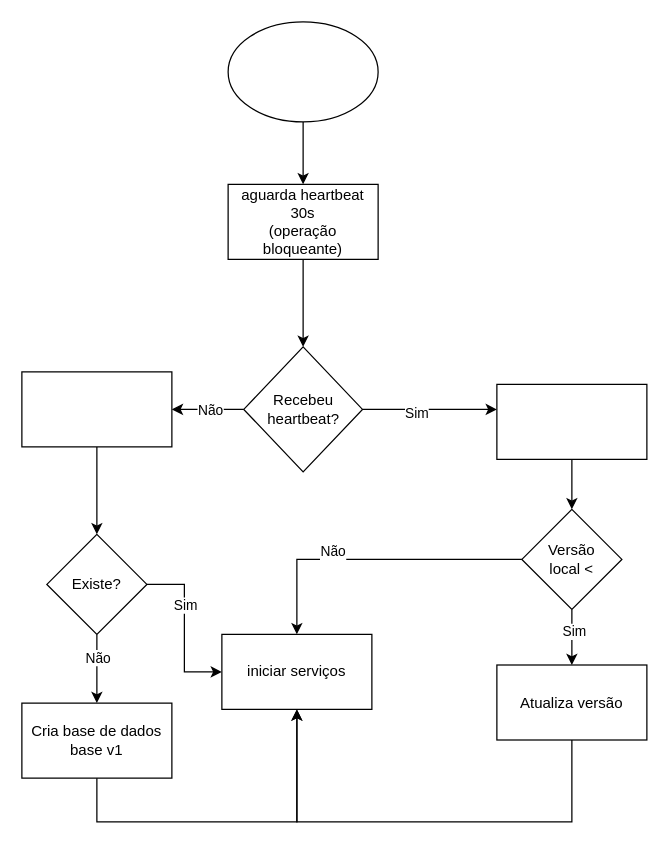
Some shapes in this 669 by 854 pixel diagram are drawn without their labels. Each missing label, with the box of its shape:
start server: (227, 21, 378, 122)
Testa url de conexão DB local: (21, 371, 172, 447)
Verifica versão db local: (496, 383, 647, 459)
